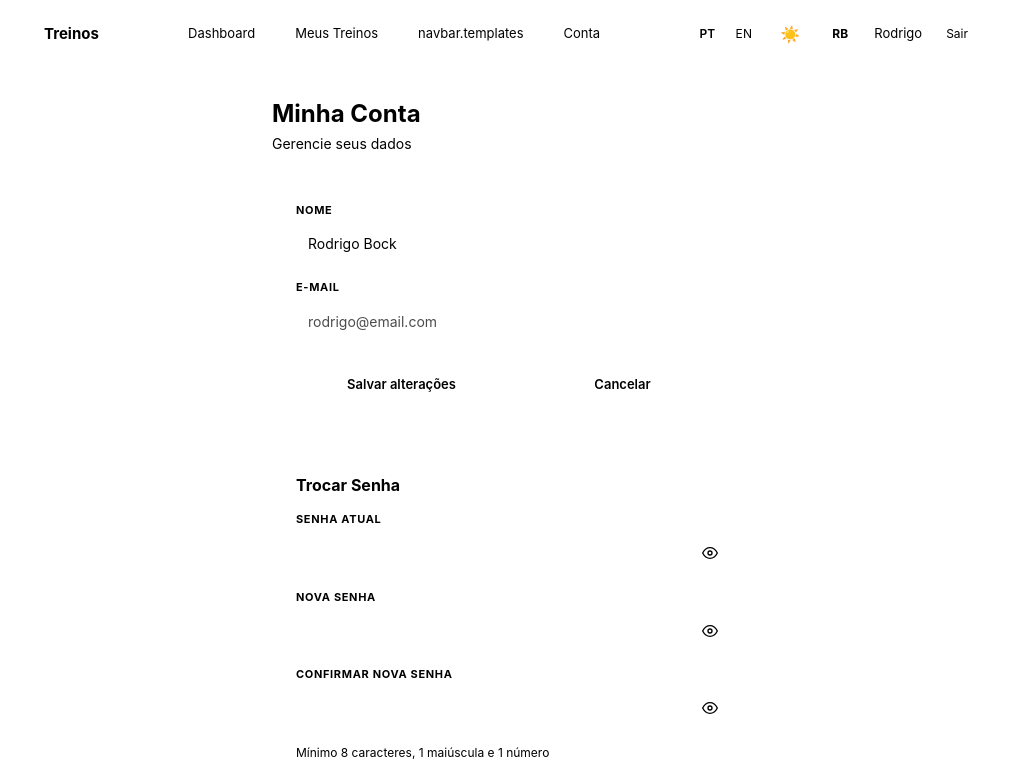
Test: exibe mensagem de sucesso após salvar
What coordinates should you click on to do the following:
click the button "Salvar alterações"
I would click on:
 (402, 385)
Its box is [296,365,507,404].
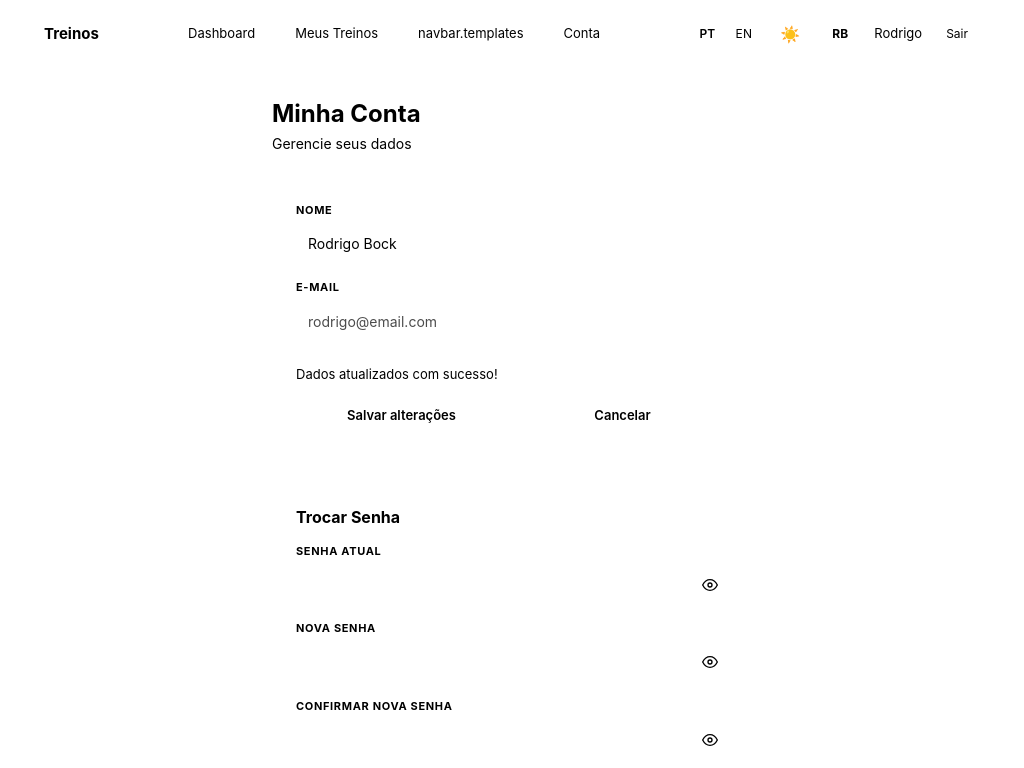
Result: the text "Dados atualizados com sucesso!" is shown at [296,366,498,382]
